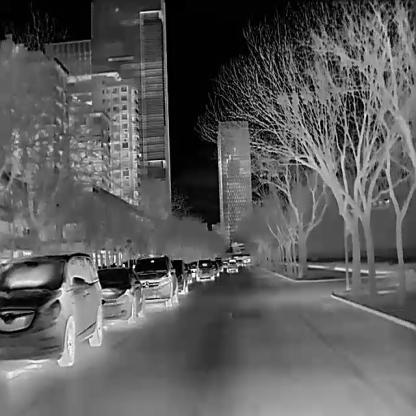car: (0, 250, 101, 365), (96, 267, 144, 322), (134, 255, 177, 308), (174, 258, 189, 294), (195, 258, 213, 281), (225, 258, 238, 274), (212, 261, 219, 277), (217, 261, 223, 271)
